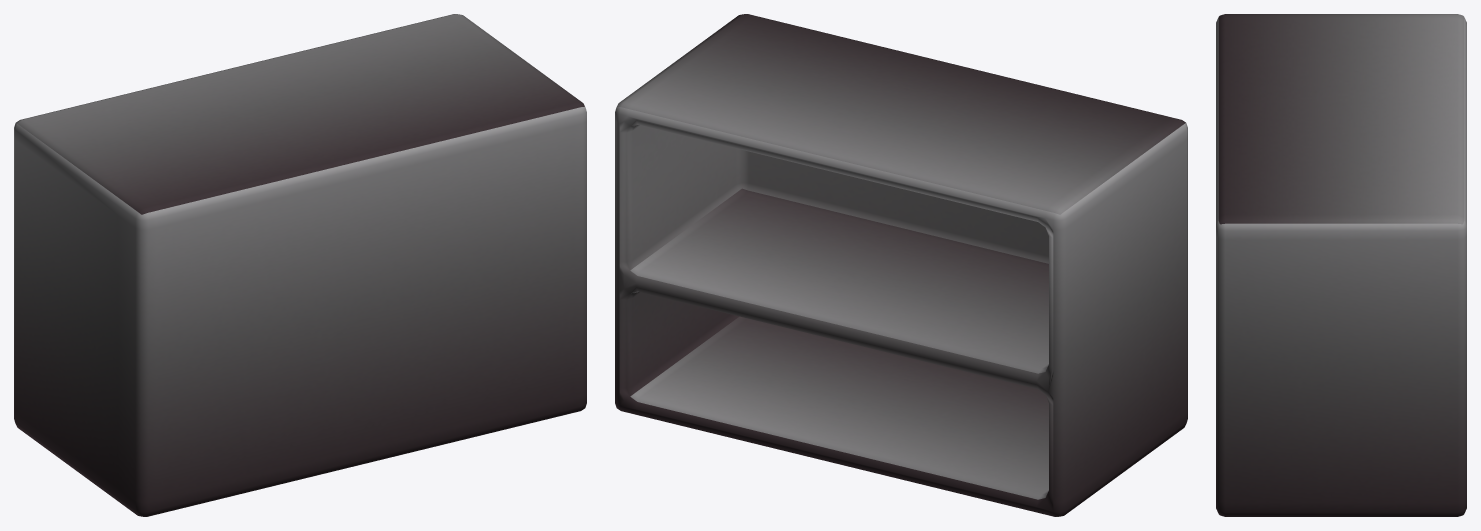
The model's file is Props_Bookshelf_04.fbx.
The picture shows the model from 3 angles, left to right: view 1: azimuth 30°, elevation 25°; view 2: azimuth 150°, elevation 25°; view 3: azimuth 270°, elevation 25°; orthographic projection. The views are drawn at different scales.
Parts seen in each view (by area): view 1: Props_Bookshelf_04; view 2: Props_Bookshelf_04; view 3: Props_Bookshelf_04.
Boxes of the visible parts, <box> form: Props_Bookshelf_04: <box>14,14,586,516</box>; Props_Bookshelf_04: <box>615,14,1187,516</box>; Props_Bookshelf_04: <box>1216,14,1466,516</box>.
Bounding box in the file's own units: 200 × 131 × 100.
